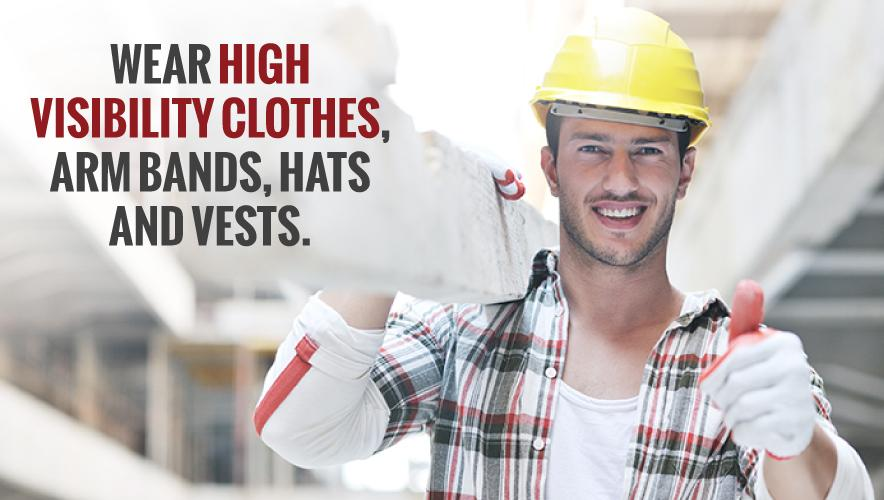helmet: (532, 9, 713, 135)
